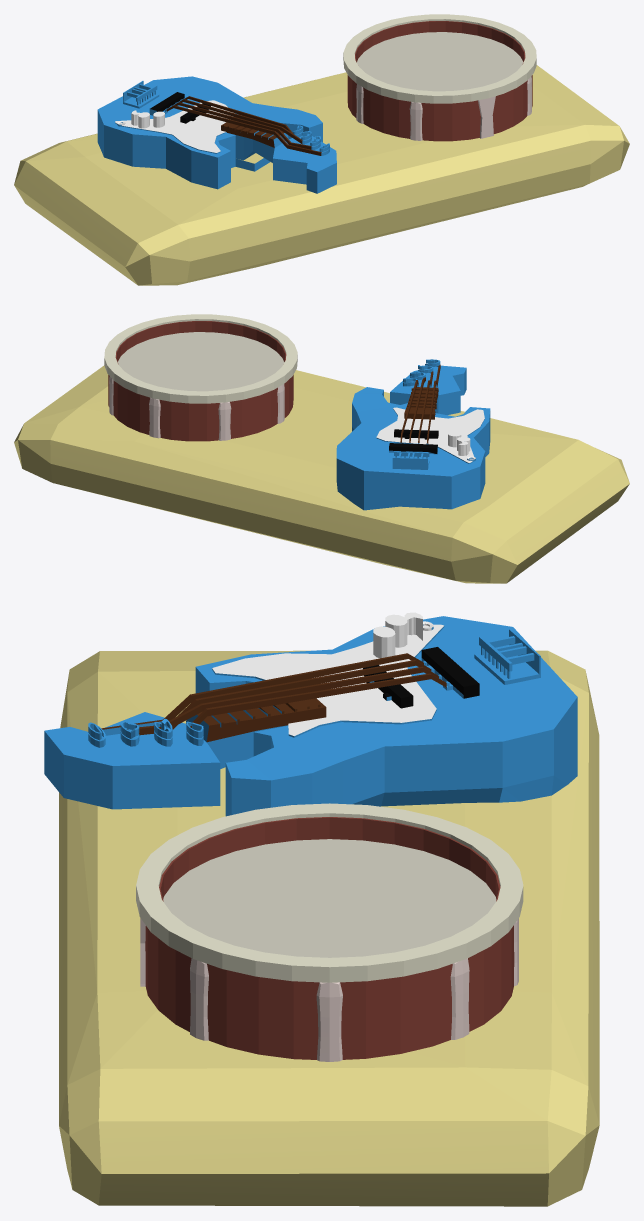
The model's file is panel_new.fbx.
The picture shows the model from 3 angles, top to bottom: view 1: azimuth 30°, elevation 25°; view 2: azimuth 150°, elevation 25°; view 3: azimuth 270°, elevation 25°; orthographic projection. The views are drawn at different scales.
Visible parts, largest first — view 1: Panel, drum, bass; view 2: Panel, drum, bass; view 3: Panel, drum, bass.
Boxes of the visible parts, <box> form: Panel: <box>14,65,629,285</box>; drum: <box>343,14,536,141</box>; bass: <box>97,76,336,193</box>; Panel: <box>14,365,629,583</box>; drum: <box>104,314,297,441</box>; bass: <box>336,359,490,510</box>; Panel: <box>59,650,599,1206</box>; drum: <box>136,803,523,1061</box>; bass: <box>44,612,577,816</box>.
Bounding box in the file's own units: 628 × 299 × 133.
